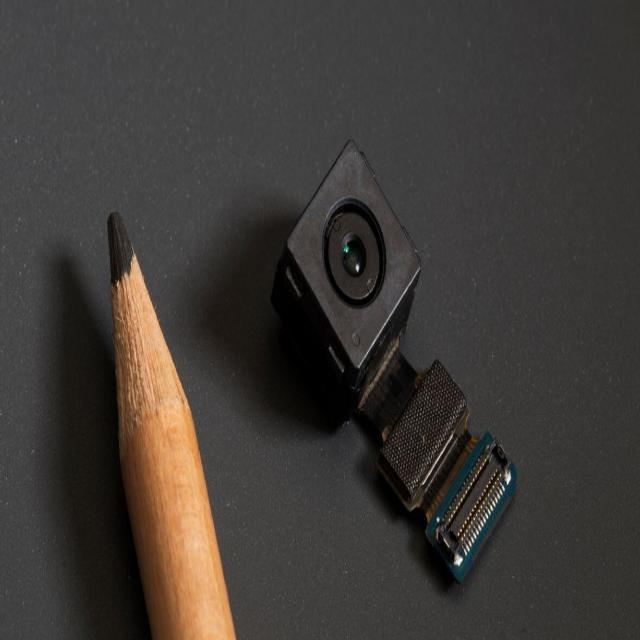hidden camera: (338, 226, 369, 283)
